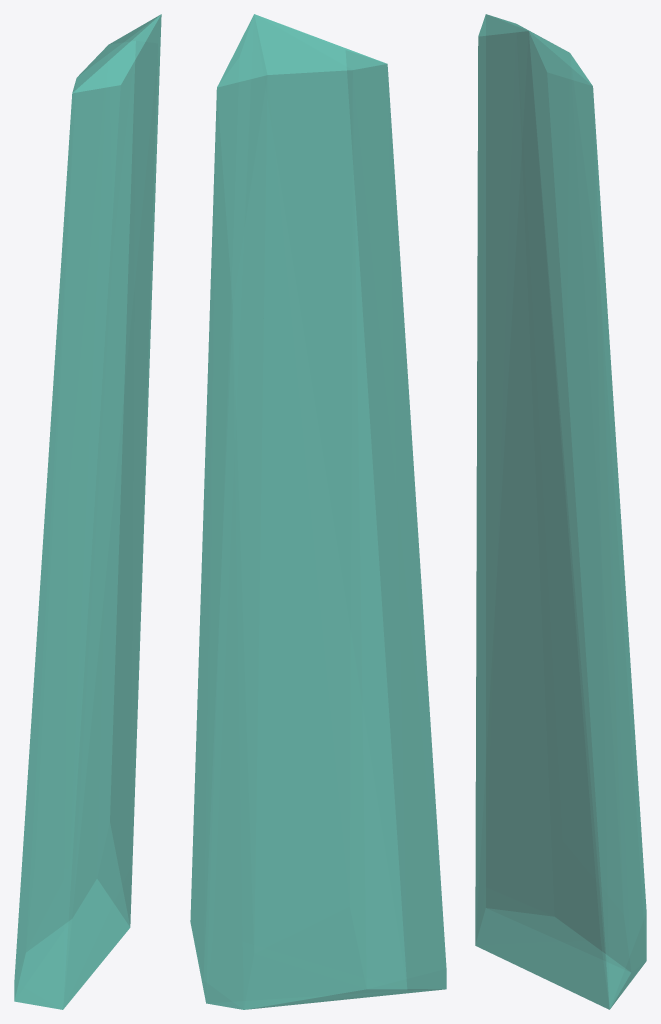
3 views of the same model, side by side, from view 1: azimuth 30°, elevation 25°; view 2: azimuth 150°, elevation 25°; view 3: azimuth 270°, elevation 25° (orthographic). The views are drawn at different scales.
Visible parts, largest first — view 1: Shape_IndexedFaceSet.016_Shape_IndexedFaceSet.3673; view 2: Shape_IndexedFaceSet.016_Shape_IndexedFaceSet.3673; view 3: Shape_IndexedFaceSet.016_Shape_IndexedFaceSet.3673.
Boxes of the visible parts, bbox=[...] form: Shape_IndexedFaceSet.016_Shape_IndexedFaceSet.3673: bbox=[14, 14, 161, 1009]; Shape_IndexedFaceSet.016_Shape_IndexedFaceSet.3673: bbox=[190, 14, 446, 1009]; Shape_IndexedFaceSet.016_Shape_IndexedFaceSet.3673: bbox=[475, 14, 646, 1009].
Size of the model in its own units: 0.0767 by 0.3943 by 0.0627.
